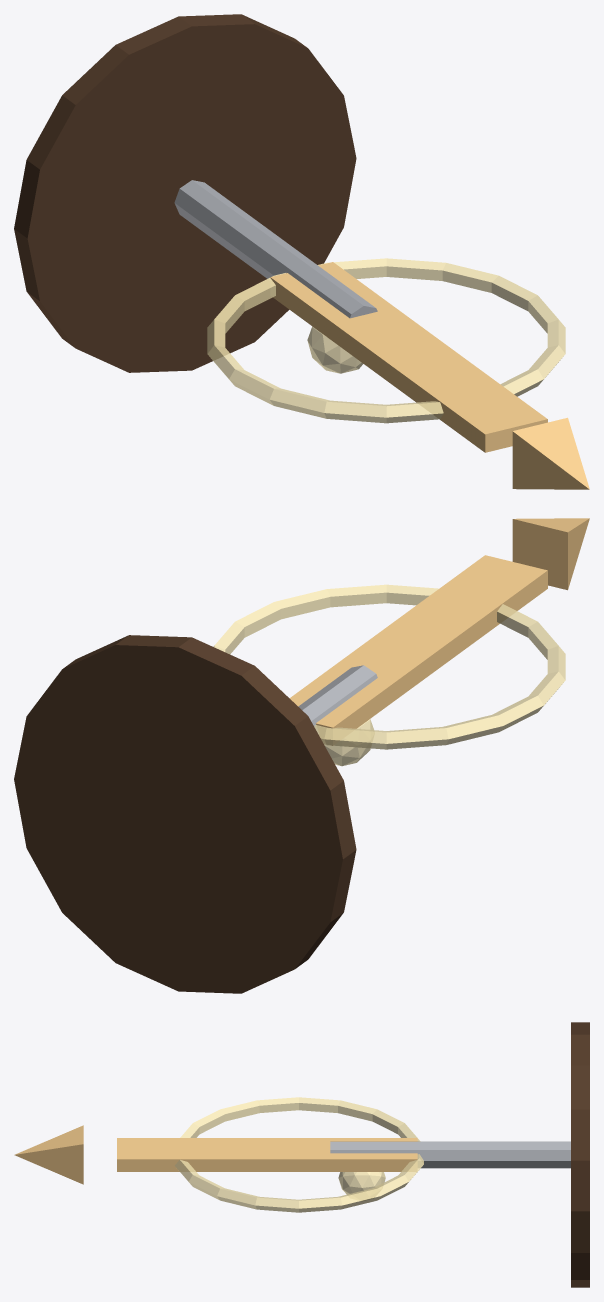
The model's file is 04_high_tier_magic_weapon_aura.glb.
3 renders of one model, top to bottom at view 1: azimuth 30°, elevation 25°; view 2: azimuth 150°, elevation 25°; view 3: azimuth 270°, elevation 25°, orthographic. The views are drawn at different scales.
Visible parts, largest first — view 1: weapon_display_base, magic_blade_core, weapon_enchant_orbit, weapon_grip, magic_blade_tip, weapon_gem; view 2: weapon_display_base, magic_blade_core, weapon_enchant_orbit, magic_blade_tip, weapon_grip, weapon_gem; view 3: magic_blade_core, weapon_enchant_orbit, weapon_grip, weapon_display_base, magic_blade_tip, weapon_gem.
Part boxes in pixels (x1,y1,x2,y2): weapon_display_base: (14,14,356,372); magic_blade_core: (270,262,547,452); weapon_enchant_orbit: (207,258,565,423); weapon_grip: (174,180,377,318); magic_blade_tip: (512,417,589,489); weapon_gem: (307,326,363,373); weapon_display_base: (14,635,356,993); magic_blade_core: (289,555,547,745); weapon_enchant_orbit: (213,584,565,749); magic_blade_tip: (512,518,589,590); weapon_grip: (298,665,377,733); weapon_gem: (324,719,373,766); magic_blade_core: (117,1138,417,1171); weapon_enchant_orbit: (175,1097,423,1212); weapon_grip: (330,1141,570,1168); weapon_display_base: (571,1022,589,1287); magic_blade_tip: (14,1125,83,1184); weapon_gem: (338,1172,385,1194).
Size of the model in its own units: 0.84 by 0.84 by 1.82.
